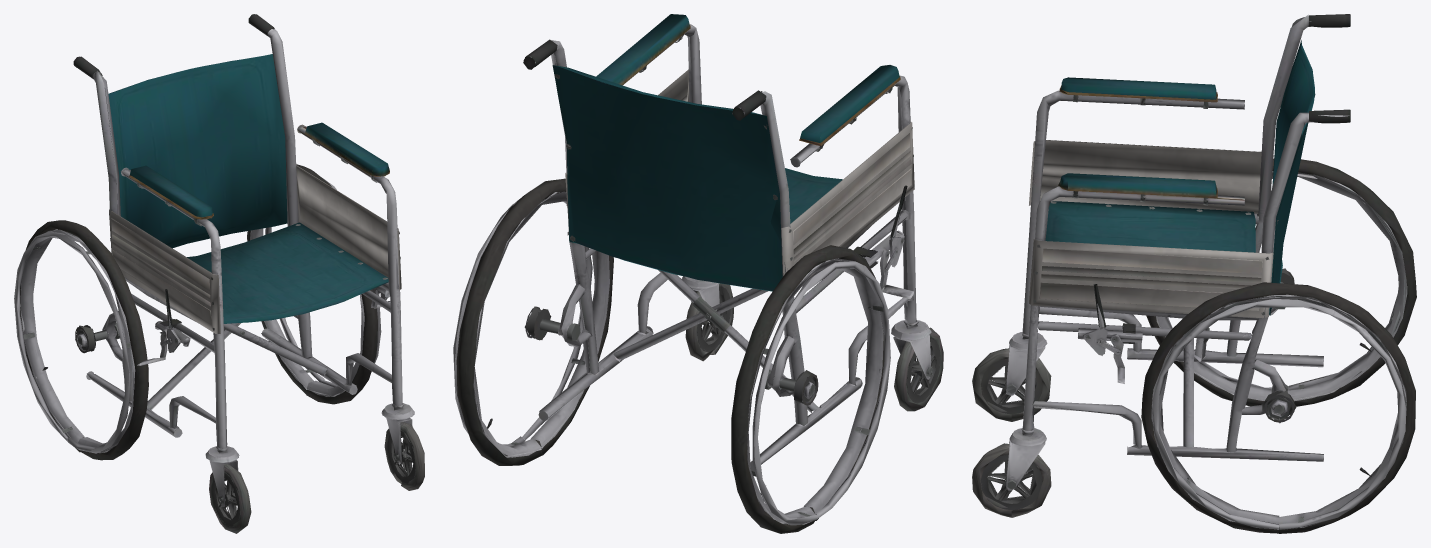
File: wheelchair.glb
3 renders of one model, left to right at view 1: azimuth 30°, elevation 25°; view 2: azimuth 150°, elevation 25°; view 3: azimuth 270°, elevation 25°, orthographic. The views are drawn at different scales.
Visible parts, largest first — view 1: wheelchair; view 2: wheelchair; view 3: wheelchair.
Part boxes in pixels (x1=…): wheelchair: x1=14, y1=14, x2=424, y2=533; wheelchair: x1=453, y1=14, x2=943, y2=533; wheelchair: x1=972, y1=14, x2=1416, y2=533.
Bounding box in the file's own units: 0.8241 × 1.1 × 1.09.
1 material, 1 textured.
